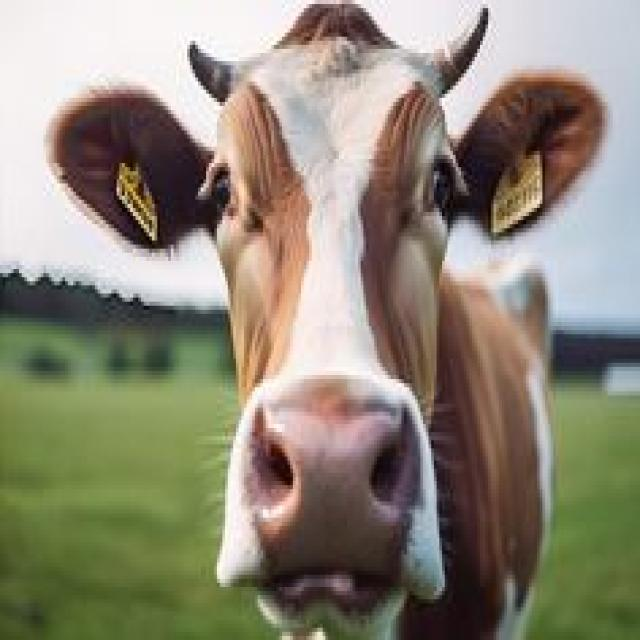Herbivorous: (46, 0, 607, 640)
